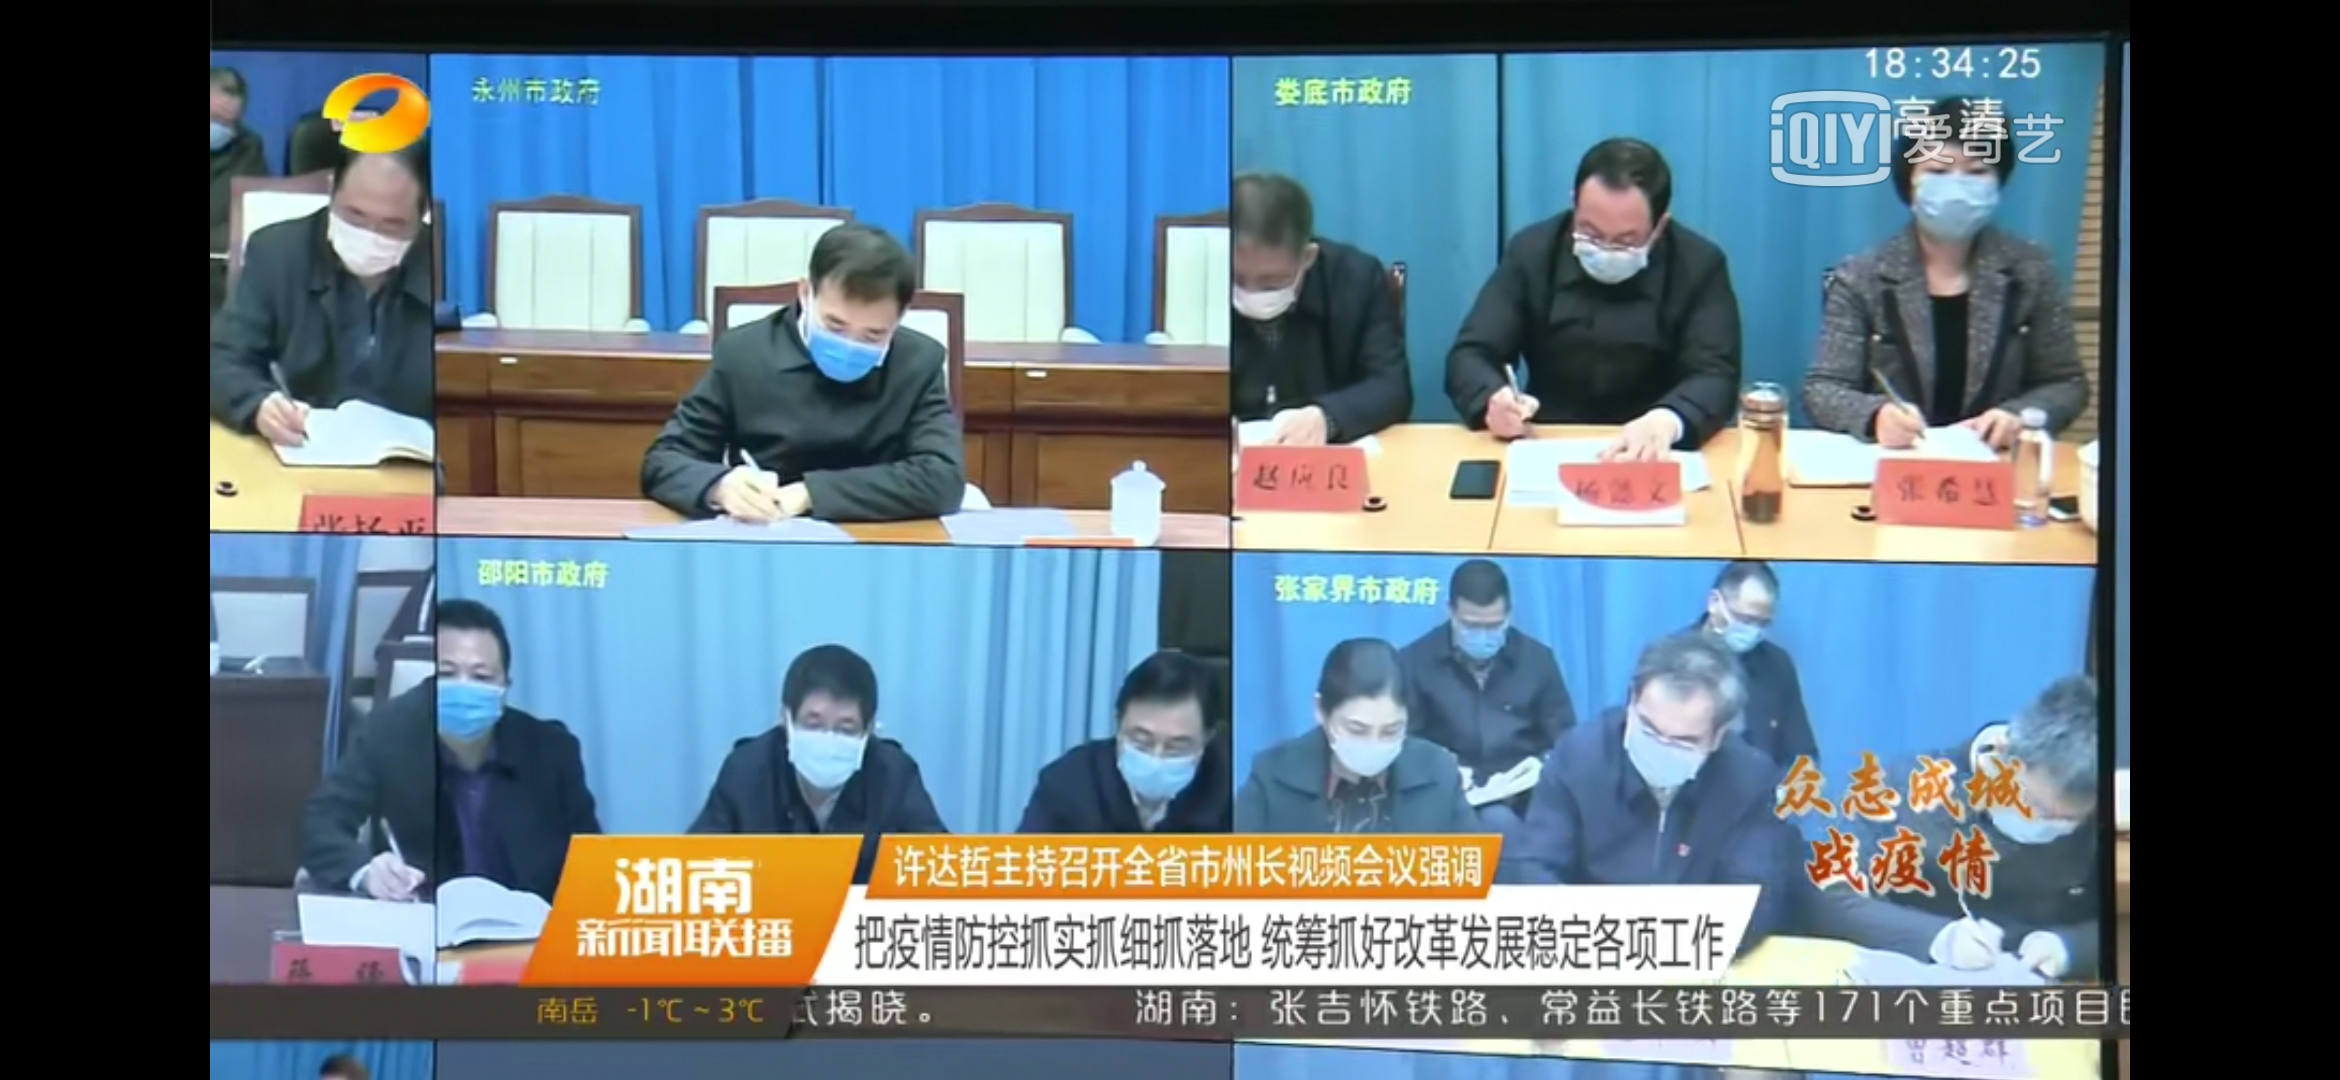correctlyWear: (795, 263, 901, 380), (1897, 148, 2015, 248), (1992, 741, 2089, 847), (1228, 216, 1321, 324), (778, 691, 875, 792), (1113, 703, 1207, 803), (1313, 682, 1407, 779), (1624, 692, 1718, 789), (325, 186, 422, 274), (433, 646, 513, 747), (1570, 198, 1659, 286), (1446, 600, 1515, 662), (1713, 591, 1779, 653), (207, 95, 239, 160)
